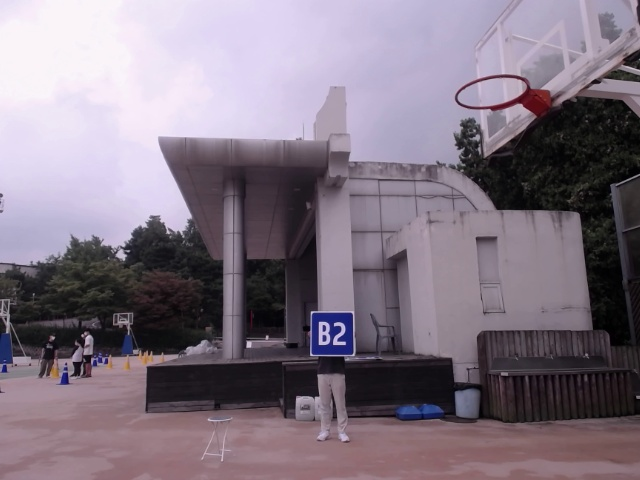delivery_b2: (309, 310, 355, 358)
